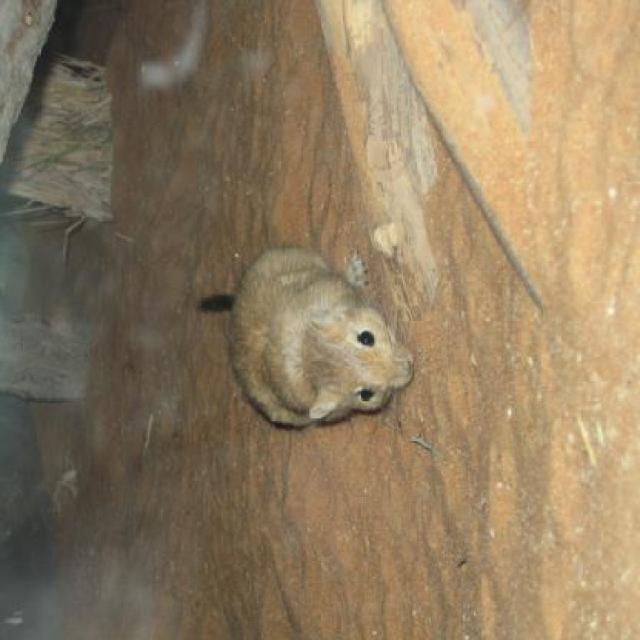Mouse: (205, 244, 424, 430)
